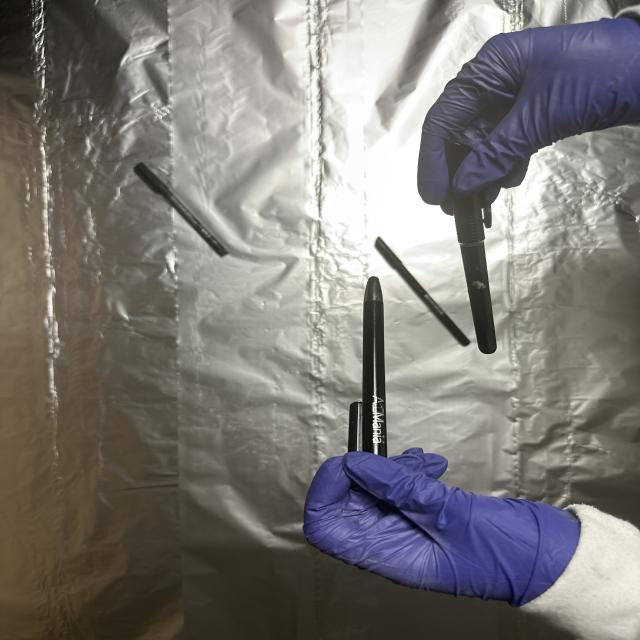gloves_contaminated: (303, 448, 581, 606), (418, 13, 640, 210)
